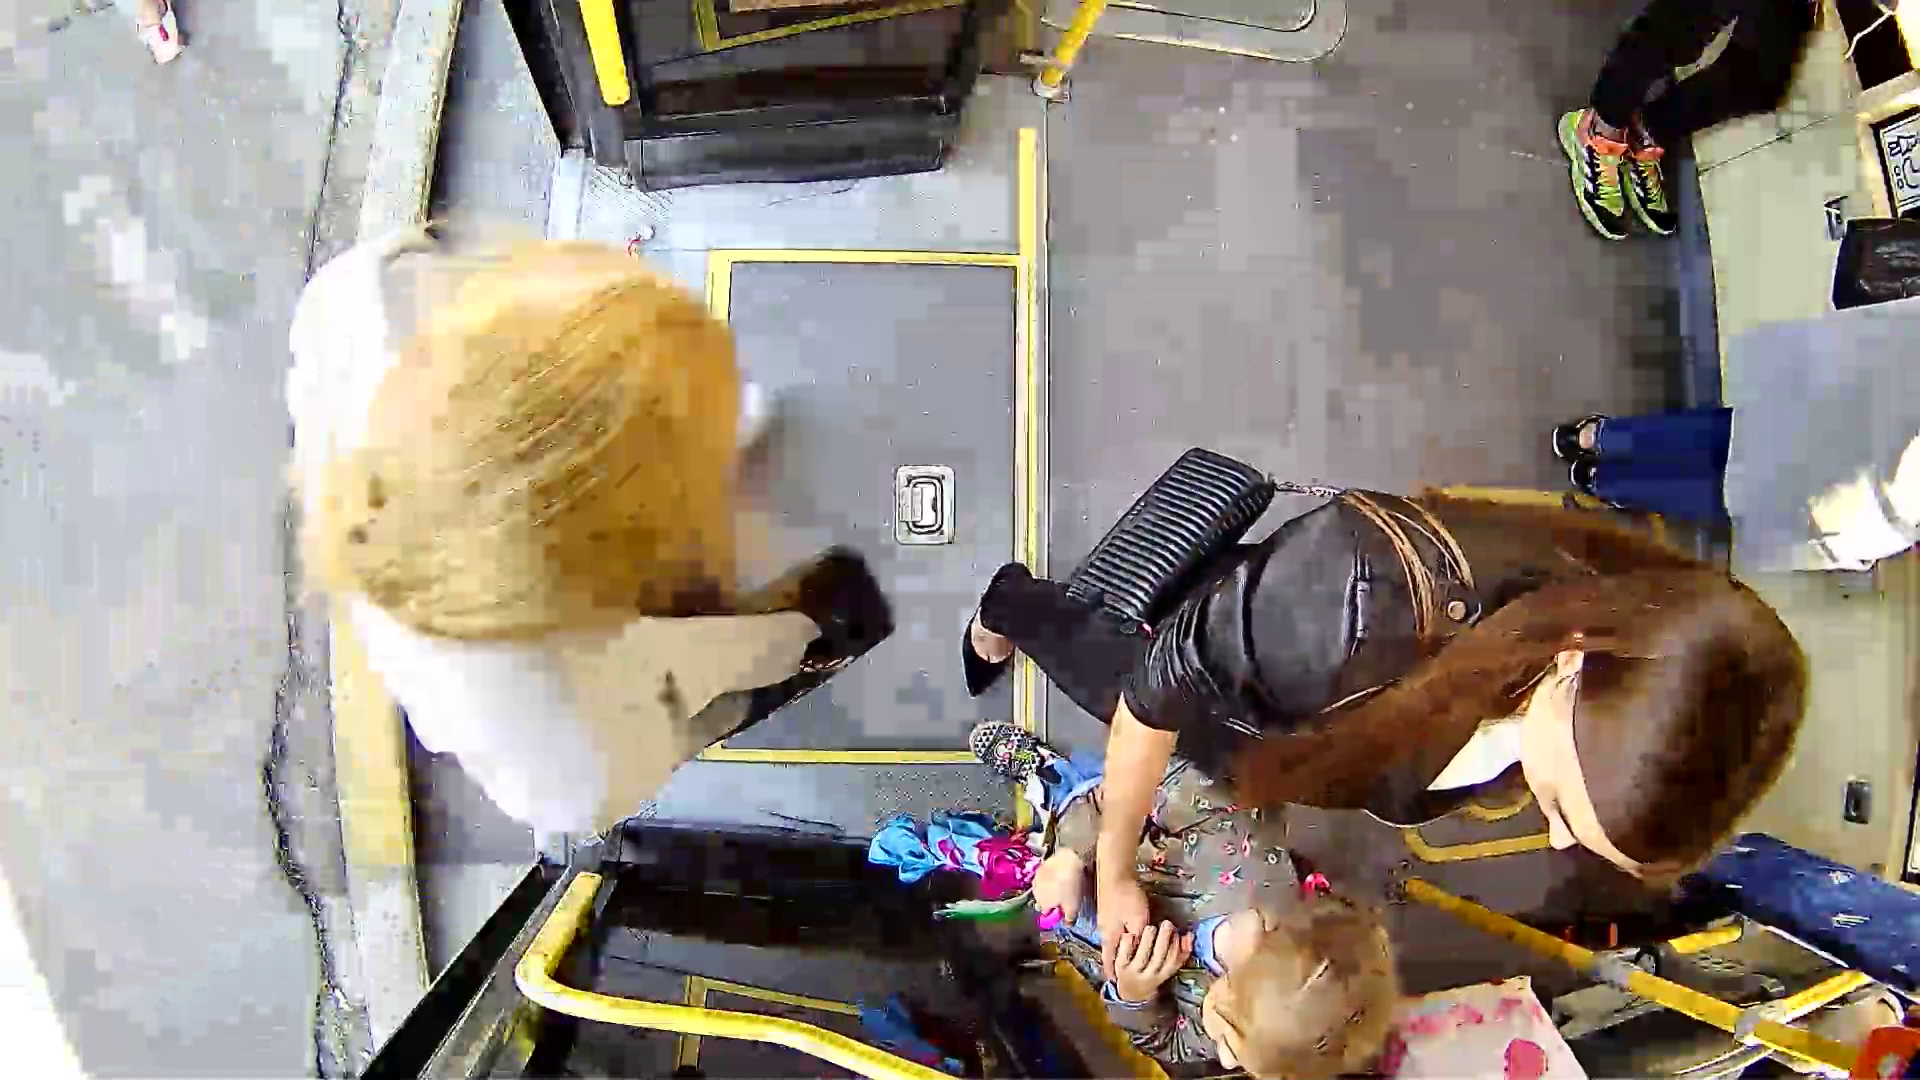person: (886, 411, 1866, 1013), (255, 213, 983, 878)
